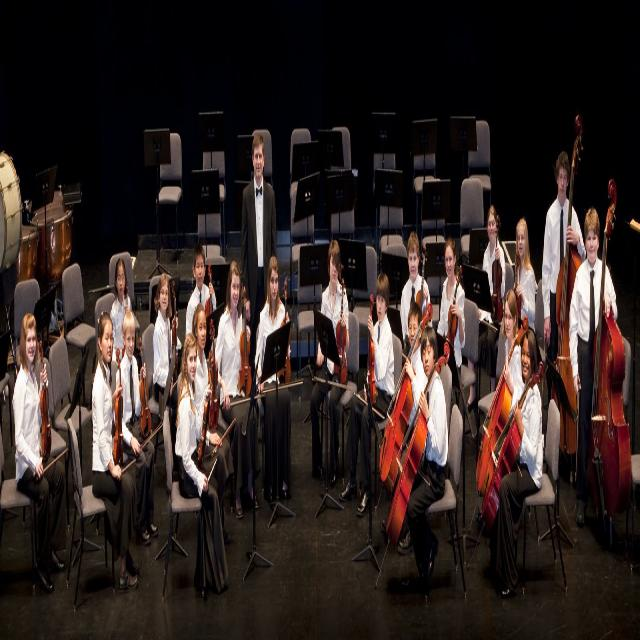cello: (385, 343, 451, 554), (480, 362, 544, 534), (378, 302, 434, 491), (474, 315, 529, 503)
violin: (36, 343, 54, 465), (134, 330, 154, 438), (236, 287, 253, 398), (332, 276, 348, 385), (277, 280, 293, 387), (200, 349, 214, 469), (112, 349, 125, 469), (490, 215, 504, 325), (208, 322, 222, 431), (446, 264, 464, 348), (366, 291, 377, 403), (169, 280, 180, 385), (512, 249, 524, 325), (417, 245, 428, 316), (202, 262, 214, 314)
